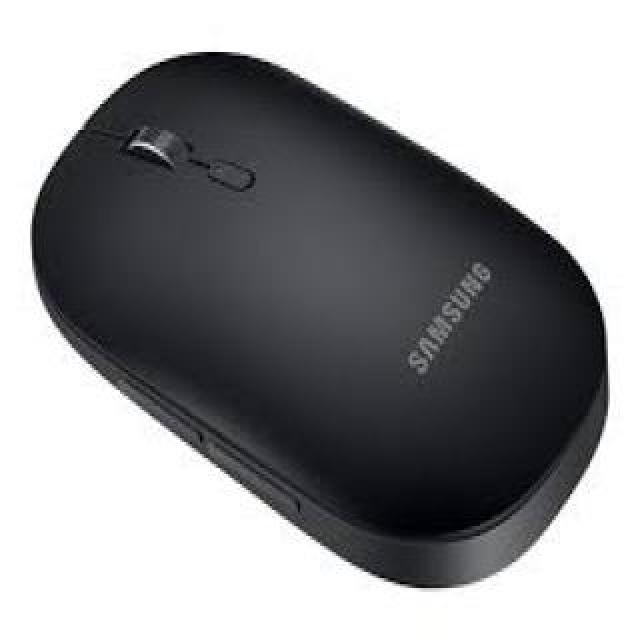mouse: (31, 34, 616, 600)
